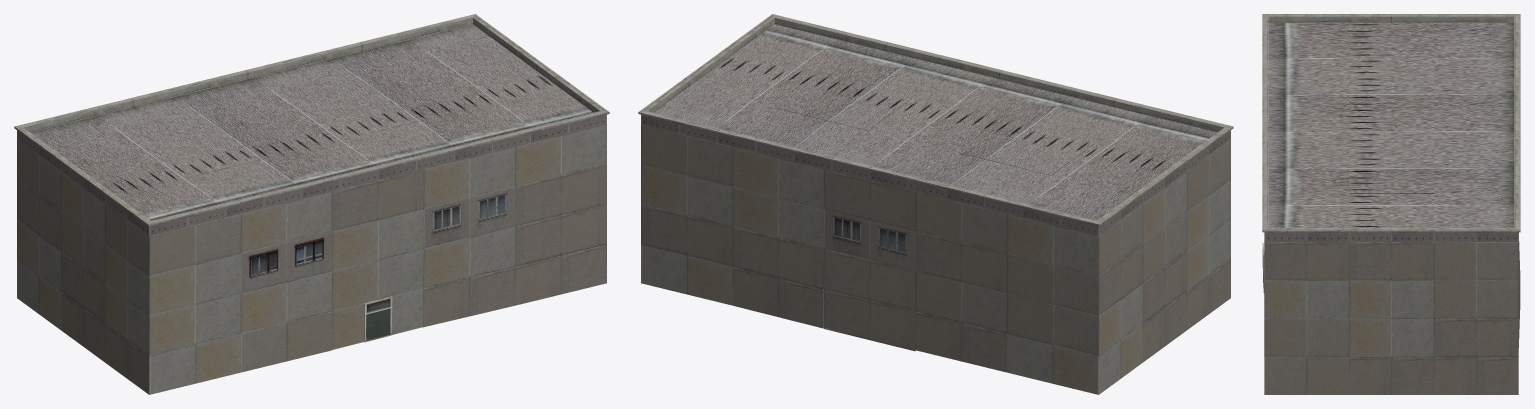
Rendered from panelEdited.glb.
The picture shows the model from 3 angles, left to right: view 1: azimuth 30°, elevation 25°; view 2: azimuth 150°, elevation 25°; view 3: azimuth 270°, elevation 25°; orthographic projection. The views are drawn at different scales.
Visible parts, largest first — view 1: DeckMidBase, sideBaseDeckWalls, InnerDeckEdge, SideWallsBase2, SideWallsBase, FrontWall10, FrontWall3, FrontWall1, FrontWall6, FrontWall8, FrontWall9, FrontWall12 (+22 smaller); view 2: DeckMidBase, sideBaseDeckWalls, SideWallsBase, InnerDeckEdge, BackWall13, DeckEgdeDotted, BackWall14, BackWall4, BackWall12, BackWallMid1, BackWall9, BackWall3 (+18 smaller); view 3: DeckMidBase, SideWalls1, SideWalls2_1, sideBaseDeckWalls, SideWallsBase2, InnerDeckEdge, SideWall2_5, SideWall2_7, SideWall2_9, SideWalls2, DeckEdges, DeckEdgeDotted1 (+1 smaller).
Boxes of the visible parts, x1=… form: DeckMidBase: x1=30, y1=24, x2=593, y2=220; sideBaseDeckWalls: x1=61, y1=244, x2=606, y2=394; InnerDeckEdge: x1=17, y1=15, x2=606, y2=223; SideWallsBase2: x1=17, y1=139, x2=332, y2=372; SideWallsBase: x1=17, y1=172, x2=240, y2=394; FrontWall10: x1=240, y1=271, x2=332, y2=332; FrontWall3: x1=331, y1=169, x2=423, y2=230; FrontWall1: x1=149, y1=214, x2=241, y2=275; FrontWall6: x1=149, y1=253, x2=240, y2=315; FrontWall8: x1=515, y1=164, x2=606, y2=226; FrontWall9: x1=149, y1=293, x2=240, y2=355; FrontWall12: x1=423, y1=226, x2=515, y2=287; DeckMidBase: x1=654, y1=24, x2=1217, y2=220; sideBaseDeckWalls: x1=732, y1=259, x2=1230, y2=372; SideWallsBase: x1=641, y1=172, x2=1186, y2=394; InnerDeckEdge: x1=641, y1=15, x2=1230, y2=223; BackWall13: x1=823, y1=248, x2=915, y2=310; DeckEgdeDotted: x1=732, y1=130, x2=1230, y2=235; BackWall14: x1=915, y1=271, x2=1007, y2=332; BackWall4: x1=915, y1=191, x2=1007, y2=253; BackWall12: x1=732, y1=226, x2=823, y2=288; BackWallMid1: x1=824, y1=289, x2=915, y2=351; BackWall9: x1=915, y1=231, x2=1007, y2=293; BackWall3: x1=824, y1=169, x2=915, y2=231; DeckMidBase: x1=1268, y1=23, x2=1514, y2=227; SideWalls1: x1=1264, y1=280, x2=1433, y2=318; SideWalls2_1: x1=1264, y1=242, x2=1433, y2=280; sideBaseDeckWalls: x1=1349, y1=272, x2=1520, y2=394; SideWallsBase2: x1=1264, y1=242, x2=1518, y2=394; InnerDeckEdge: x1=1264, y1=14, x2=1518, y2=229; SideWall2_5: x1=1349, y1=318, x2=1433, y2=356; SideWall2_7: x1=1264, y1=318, x2=1348, y2=356; SideWall2_9: x1=1434, y1=318, x2=1518, y2=356; SideWalls2: x1=1434, y1=280, x2=1518, y2=318; DeckEdges: x1=1262, y1=14, x2=1520, y2=232; DeckEdgeDotted1: x1=1349, y1=232, x2=1518, y2=241.
Bounding box in the file's own units: 264 × 94.32 × 133.
12 materials, 11 textured.
